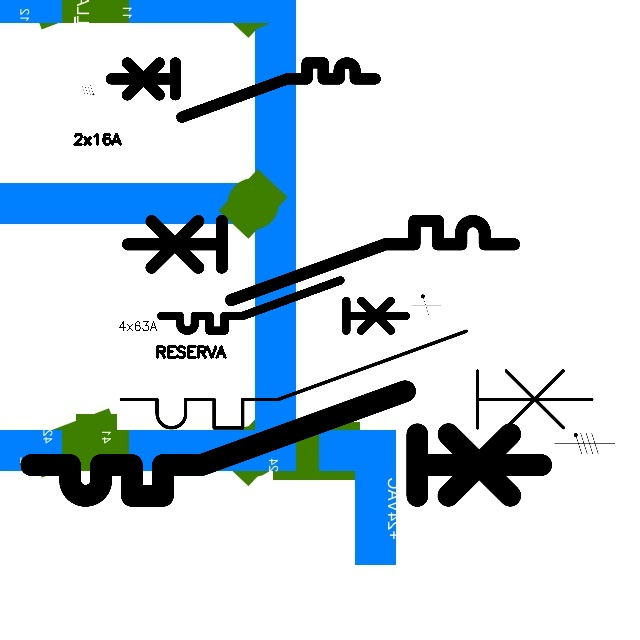interruptor_termomagnetico: (18, 378, 554, 509), (109, 319, 604, 440), (118, 211, 524, 310), (104, 56, 381, 124), (155, 274, 411, 337)
